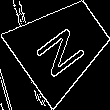N_NE: (30, 15, 92, 77)
